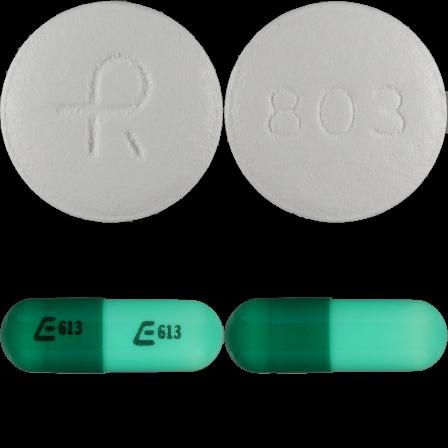68788-9124: (0, 0, 224, 224)
